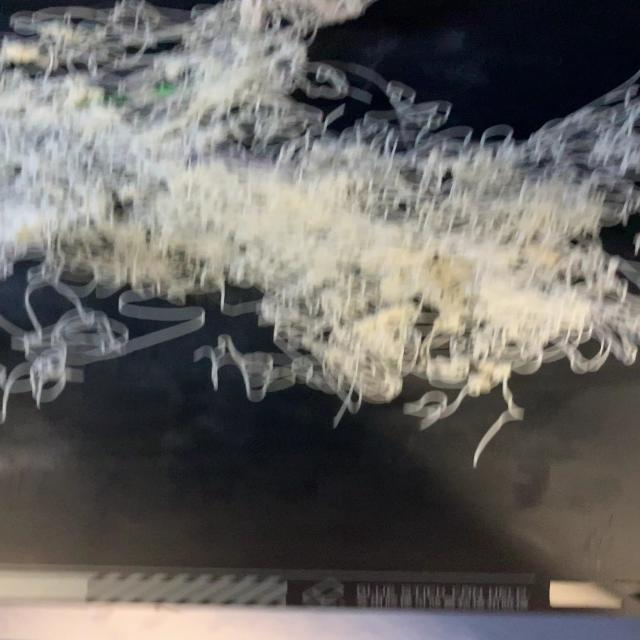spaghetti: (4, 2, 636, 469)
